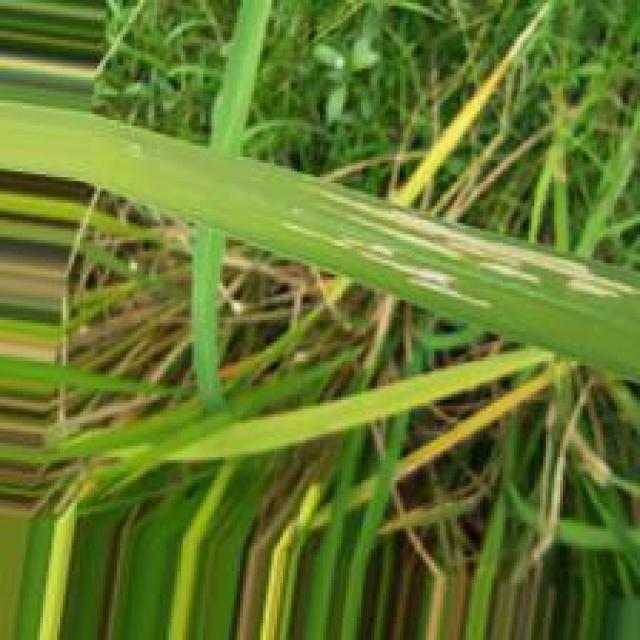Rice_Hispa: (325, 198, 640, 300), (305, 236, 475, 305)
